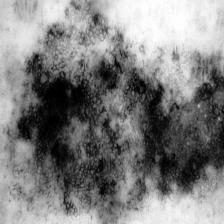Benign Marking or Mole: (5, 1, 224, 219)
